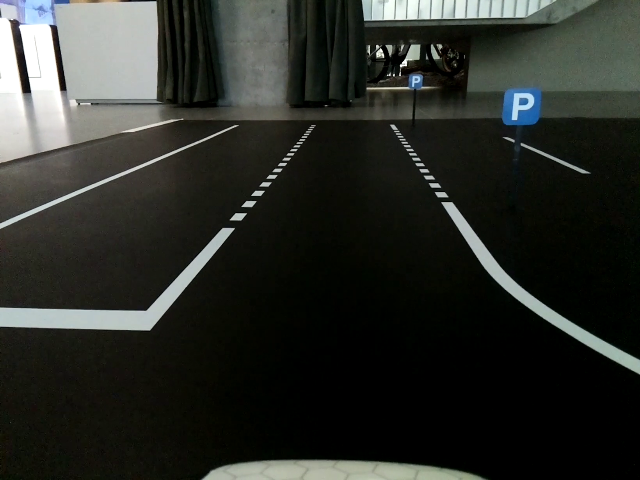park: (503, 88, 541, 125), (409, 73, 422, 89)
